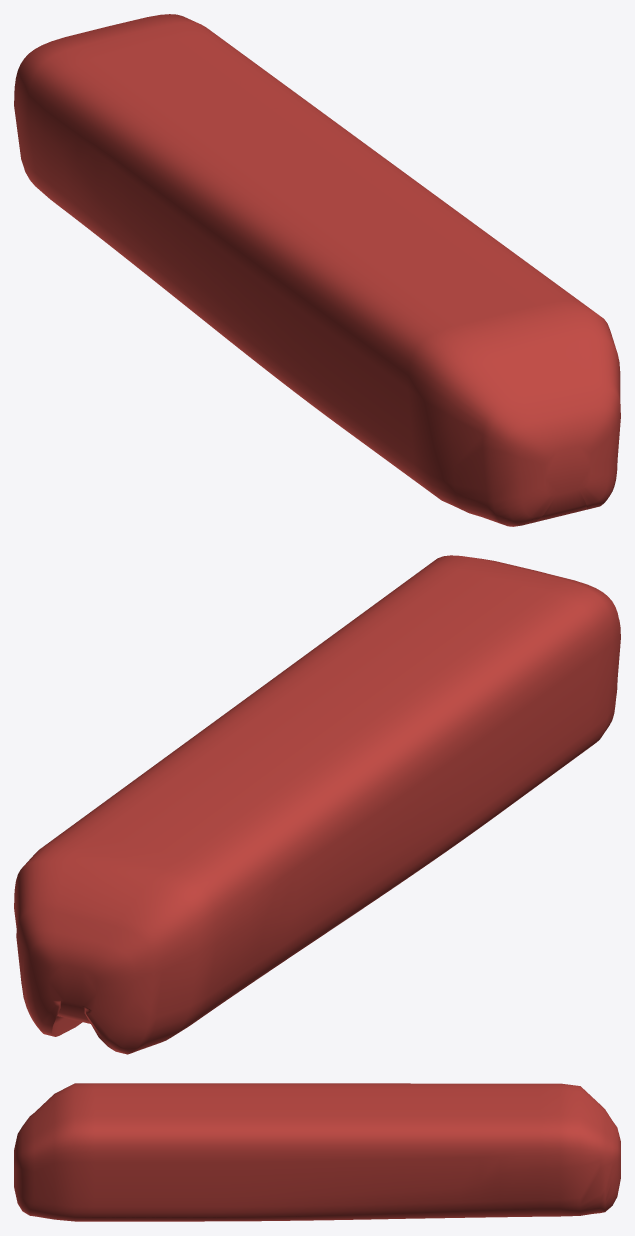
Rendered from coffin.glb.
3 renders of one model, top to bottom at view 1: azimuth 30°, elevation 25°; view 2: azimuth 150°, elevation 25°; view 3: azimuth 270°, elevation 25°, orthographic. The views are drawn at different scales.
Parts seen in each view (by area): view 1: lod0; view 2: lod0; view 3: lod0.
Part boxes in pixels (x1,y1,x2,y2): lod0: (14, 14, 620, 526); lod0: (14, 555, 620, 1054); lod0: (14, 1083, 620, 1221).
Size of what is drawn, in the model's own units: 0.22 by 0.1846 by 1.
